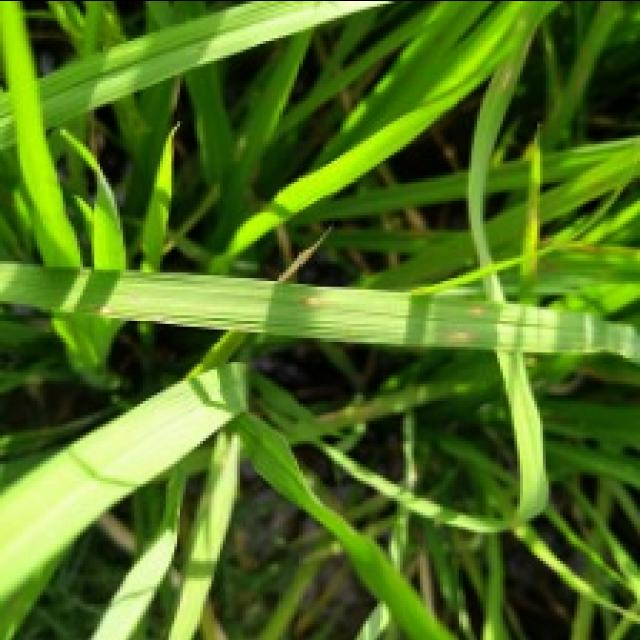Unhealthy: (444, 326, 477, 344), (304, 293, 329, 307), (468, 302, 489, 315)
